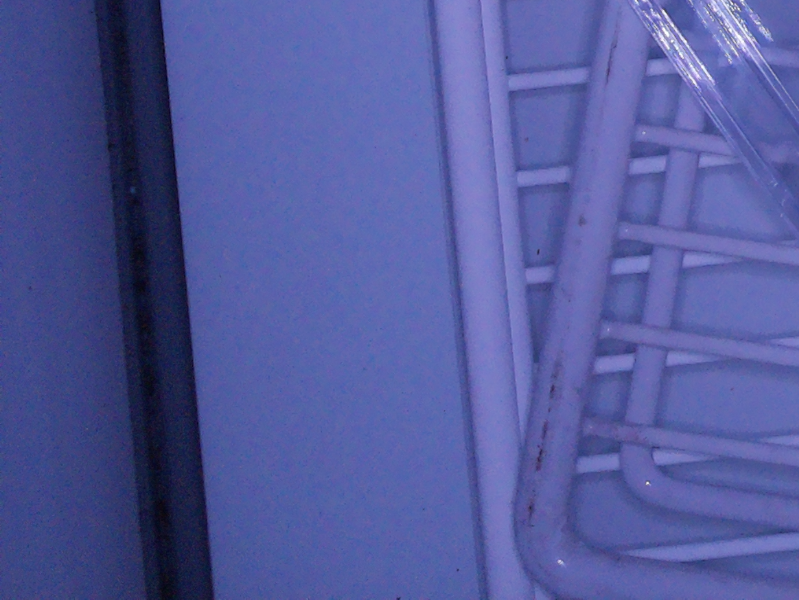plate: (627, 1, 799, 242)
